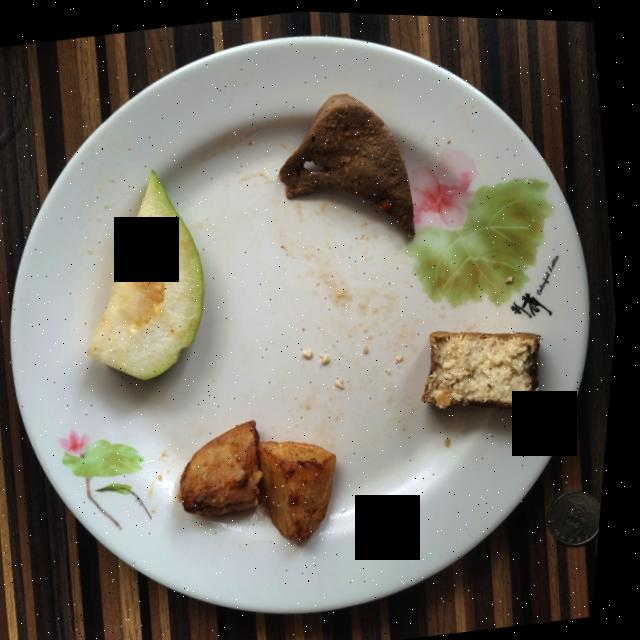coin: (556, 485, 609, 540)
egg tofu: (428, 327, 547, 404)
fried potato: (188, 417, 343, 537)
guava -sliced-: (93, 168, 209, 378)
pig liver: (282, 90, 418, 232)
